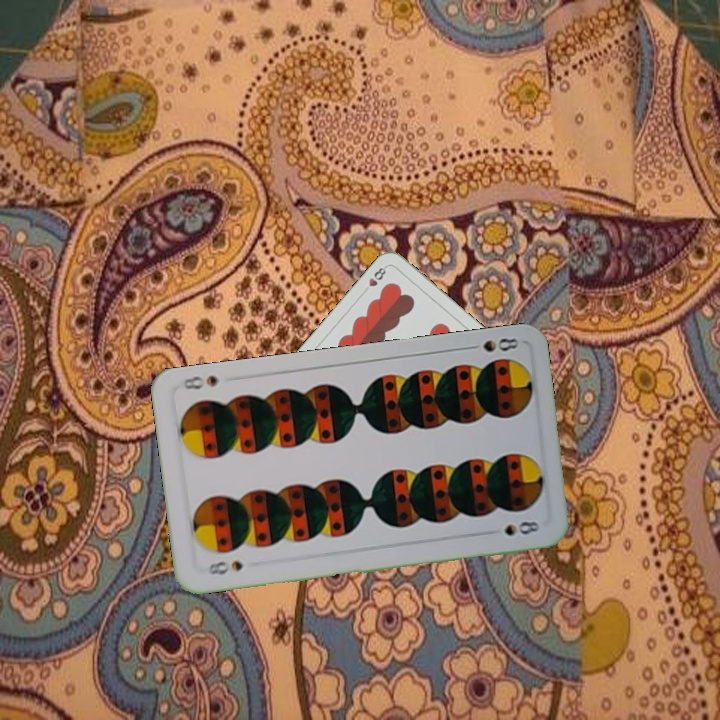H8: (359, 262, 390, 296)
S8: (462, 334, 521, 355), (201, 557, 245, 577)
